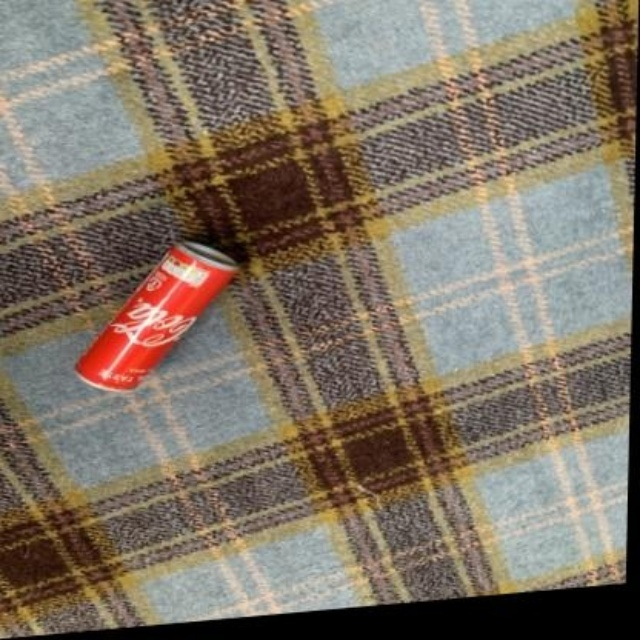trash: (75, 242, 237, 389)
